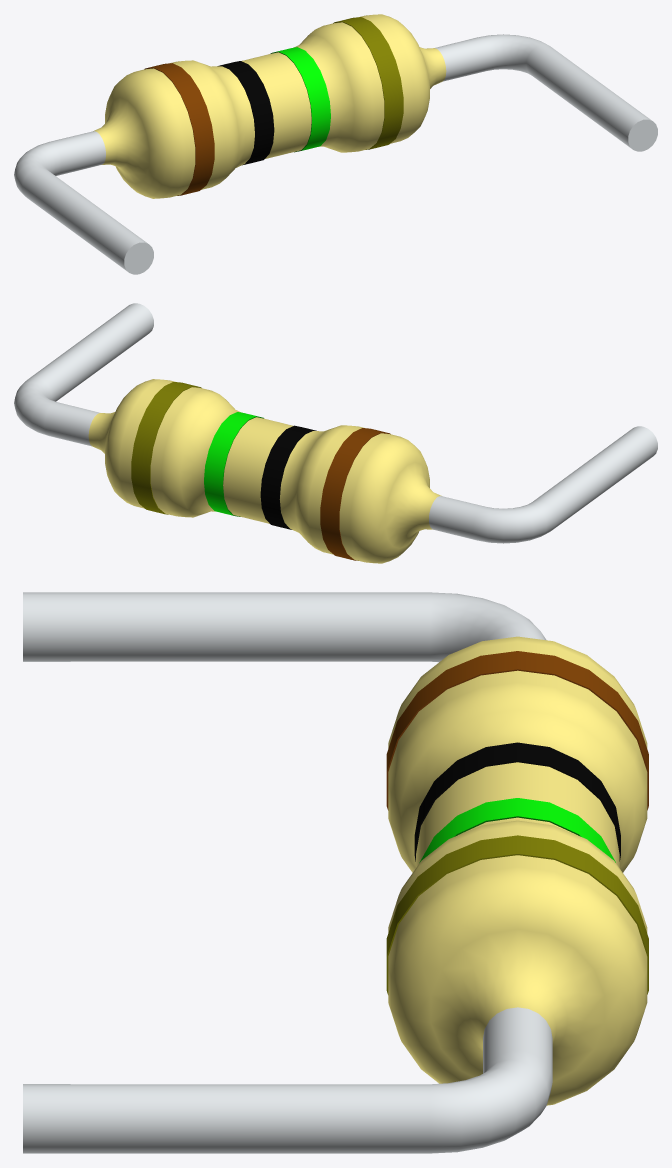
3 renders of one model, top to bottom at view 1: azimuth 30°, elevation 25°; view 2: azimuth 150°, elevation 25°; view 3: azimuth 270°, elevation 25°, orthographic. The views are drawn at different scales.
Parts seen in each view (by area): view 1: Extrude-Thin4; view 2: Extrude-Thin4; view 3: Extrude-Thin4.
Boxes of the visible parts, left/top/right/bottom form: Extrude-Thin4: left=14, top=14, right=657, bottom=274; Extrude-Thin4: left=14, top=303, right=657, bottom=563; Extrude-Thin4: left=23, top=592, right=648, bottom=1153.
Size of the model in its own units: 0.424 by 0.091 by 0.215.
